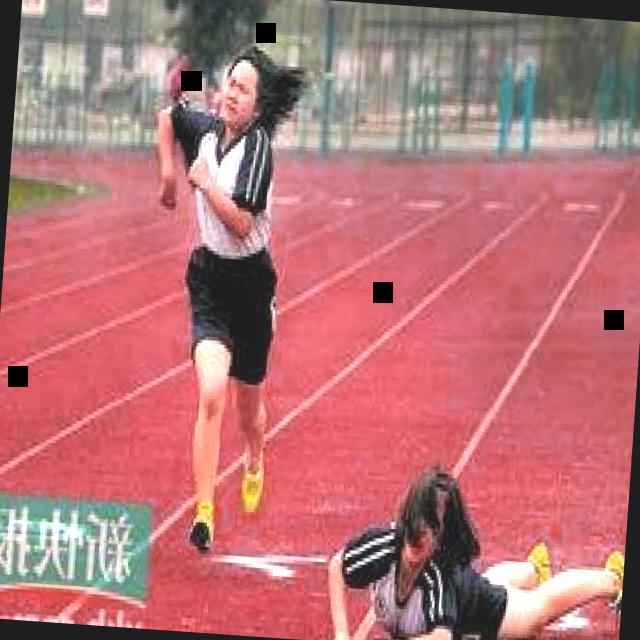Fall-Detected: (297, 432, 631, 640)
